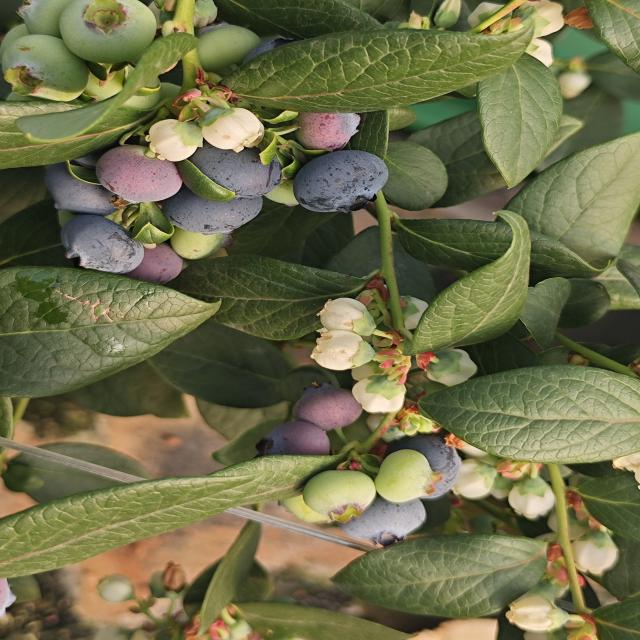ripe: (288, 147, 393, 217), (48, 213, 149, 278), (162, 184, 271, 240), (379, 429, 464, 500), (189, 138, 284, 198), (36, 160, 125, 215), (338, 495, 432, 547), (234, 32, 318, 72)
